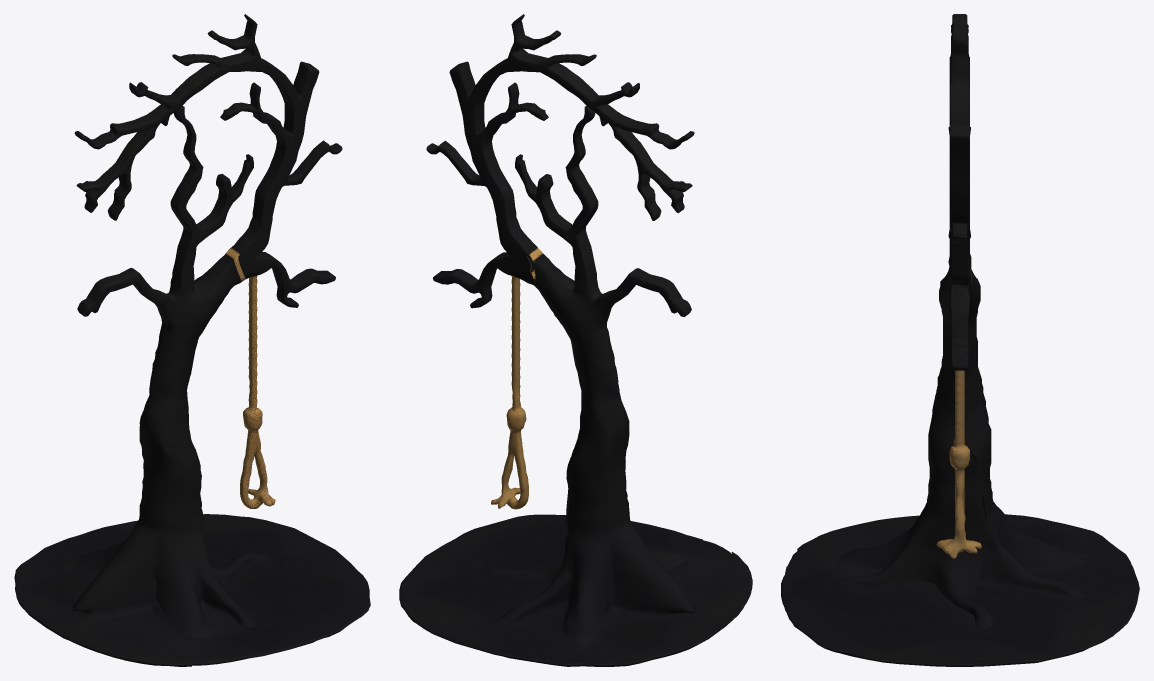
File: bog_gallows_tree.glb
3 views of the same model, side by side, from view 1: azimuth 30°, elevation 25°; view 2: azimuth 150°, elevation 25°; view 3: azimuth 270°, elevation 25° (orthographic). The views are drawn at different scales.
Size of the model in its own units: 1.05 by 1.91 by 1.05.
1 material, 1 textured.
